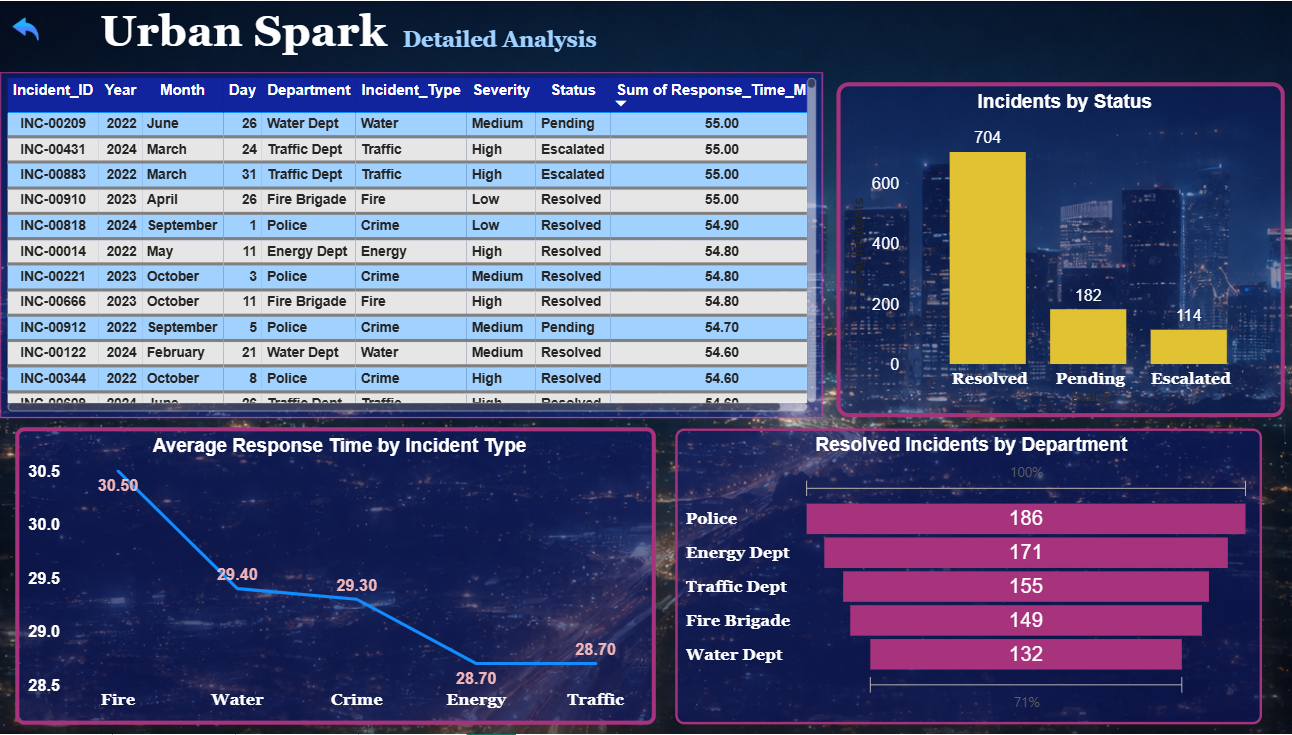

Layout of this report page (visuals, bound fields, positions):
{"tool":"powerbi","page":{"name":"Detailed","canvas":[1280,720],"ordinal":2},"visuals":[{"type":"textbox","box":[82.9,0,332.8,80.3],"z":0},{"type":"tableEx","fields":{"Values":["Incidents_Raw.Incident_ID","Incidents_Raw.Date.Variation.Date Hierarchy.Year","Incidents_Raw.Date.Variation.Date Hierarchy.Month","Incidents_Raw.Date.Variation.Date Hierarchy.Day","Incidents_Raw.Department","Incidents_Raw.Incident_Type","Incidents_Raw.Severity","Incidents_Raw.Status","Sum(Incidents_Raw.Response_Time_Mins)"]},"box":[11.5,70.1,807.2,339.2],"z":1000},{"type":"textbox","box":[401.7,20.4,223.2,39.5],"z":2000},{"type":"columnChart","title":"Incidents by Status","fields":{"Category":["Incidents_Raw.Status"],"Y":["Incidents_Raw.Total Incidents"]},"box":[831.4,80.3,439.9,329],"z":3000},{"type":"lineChart","title":"Average Response Time by Incident Type","fields":{"Y":["Incidents_Raw.Avg Response Time"],"Category":["Incidents_Raw.Incident_Type"]},"box":[25.5,418.3,628.7,292],"z":4000},{"type":"funnel","fields":{"Category":["Incidents_Raw.Department"],"Y":["Incidents_Raw.Resolved Incidents"]},"box":[673.3,419.5,576.4,290.7],"z":5000},{"type":"image","box":[0,15.3,71.4,25.5],"z":7000}]}

Visuals, with their boxes in screenshot pixels (x1, y1, x2, y2), scaled from the page's 1280x720 canvas onto the 1292x735 screenshot:
textbox: x1=84, y1=0, x2=420, y2=82
tableEx - Incidents_Raw.Incident_ID x Incidents_Raw.Date.Variation.Date Hierarchy.Year: x1=12, y1=72, x2=826, y2=418
textbox: x1=405, y1=21, x2=631, y2=61
"Incidents by Status" columnChart: x1=839, y1=82, x2=1283, y2=418
"Average Response Time by Incident Type" lineChart: x1=26, y1=427, x2=660, y2=725
funnel - Incidents_Raw.Department x Incidents_Raw.Resolved Incidents: x1=680, y1=428, x2=1261, y2=725
image: x1=0, y1=16, x2=72, y2=42
